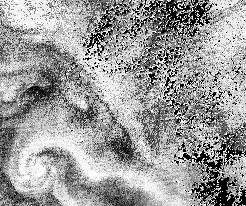CE: (10, 143, 64, 194)
